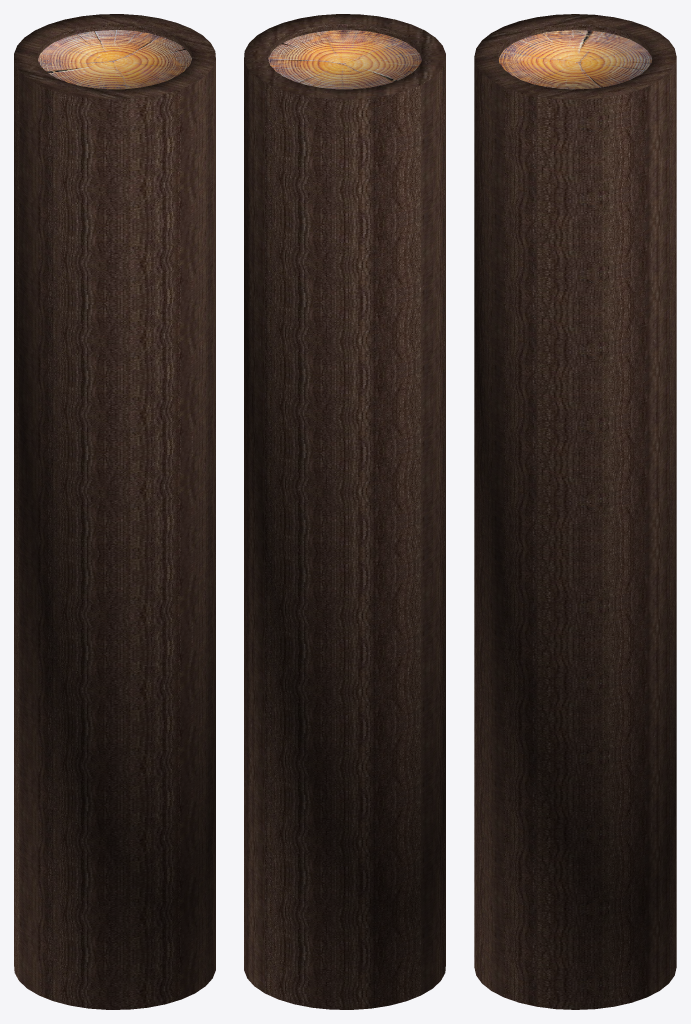
The model's file is LogSingle.fbx.
3 views of the same model, side by side, from view 1: azimuth 30°, elevation 25°; view 2: azimuth 150°, elevation 25°; view 3: azimuth 270°, elevation 25° (orthographic).
Visible parts, largest first — view 1: Cylinder; view 2: Cylinder; view 3: Cylinder.
Part boxes in pixels (left/top/right/bottom): Cylinder: left=14, top=14, right=215, bottom=1009; Cylinder: left=244, top=14, right=445, bottom=1009; Cylinder: left=474, top=14, right=676, bottom=1009.
Size of the model in its own units: 107 by 532 by 107.
